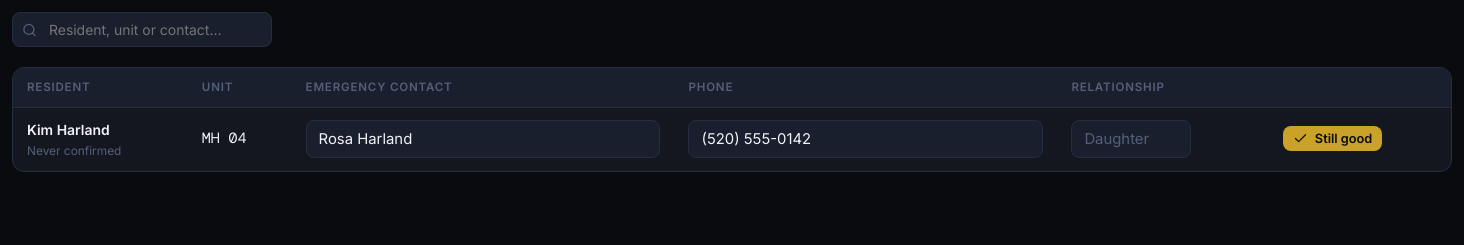
a stale row is read again in place › "Still good" refused because nothing is on file any more (404) says so once and reads the roster again
Click the button "Still good".
click(1333, 138)  # box [1283,126,1382,151]
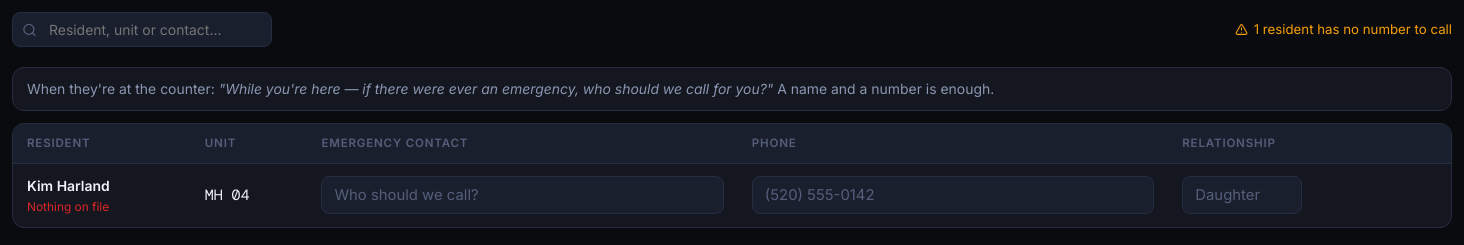
Result: the text "Nothing on file" is shown at [27,199,109,214]
